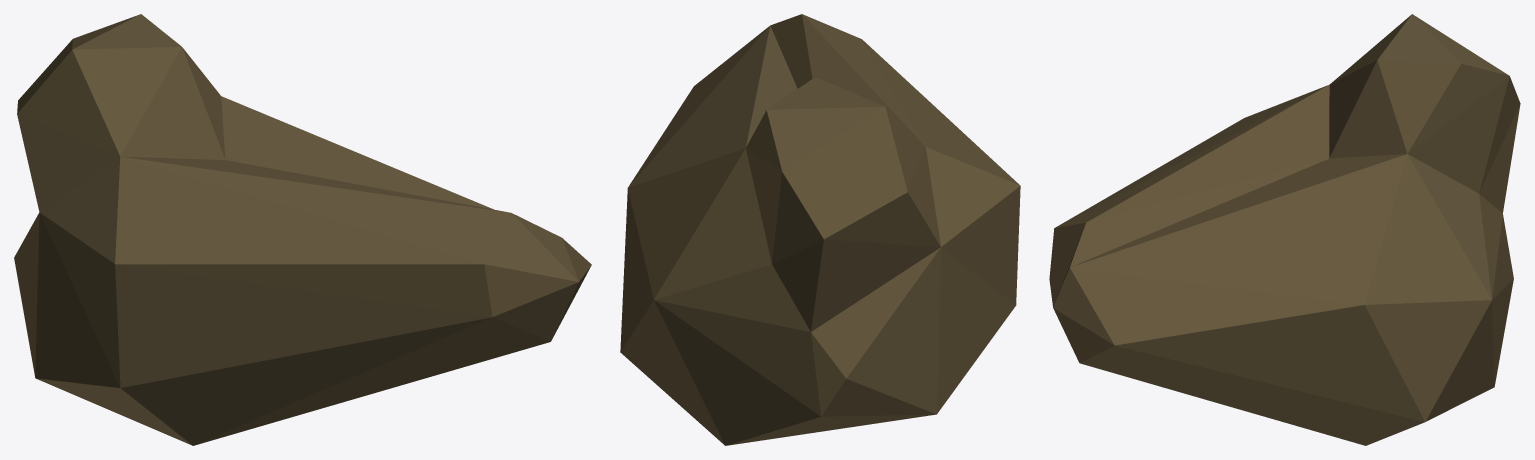
Rendered from ant-cox-hind-right.dae.
3 views of the same model, side by side, from view 1: azimuth 30°, elevation 25°; view 2: azimuth 150°, elevation 25°; view 3: azimuth 270°, elevation 25° (orthographic). The views are drawn at different scales.
Visible parts, largest first — view 1: ant-cox-hind-right; view 2: ant-cox-hind-right; view 3: ant-cox-hind-right.
Part boxes in pixels (x1,y1,x2,y2): ant-cox-hind-right: (14,14,591,445); ant-cox-hind-right: (620,14,1020,445); ant-cox-hind-right: (1049,14,1520,445).
Bounding box in the file's own units: 1.93 × 2.1 × 1.73.
